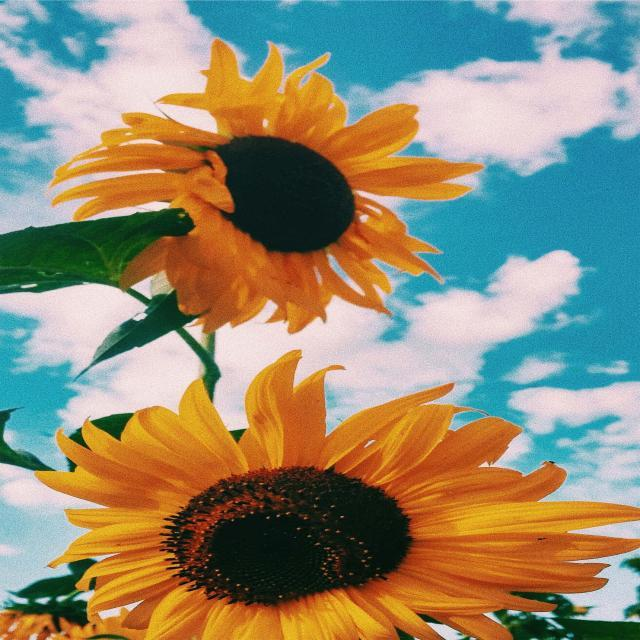sunflower: (33, 348, 639, 639), (46, 36, 484, 334), (0, 607, 85, 639)
